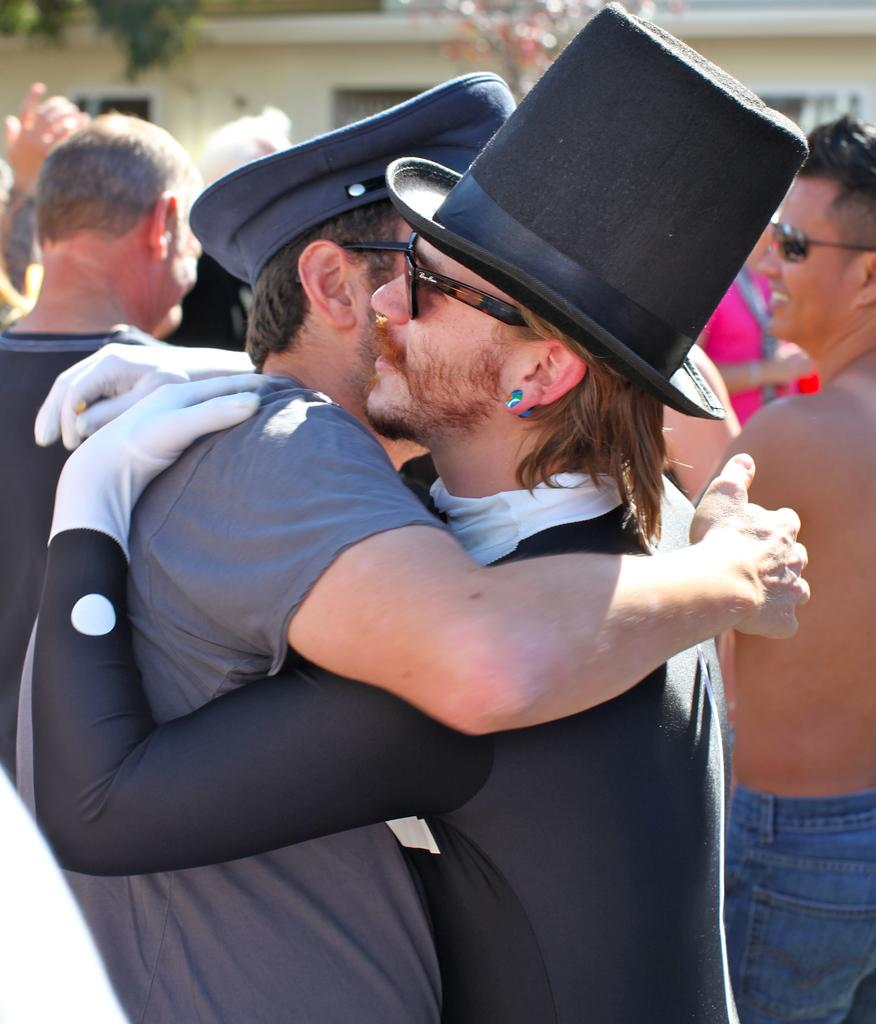Hat: (322, 9, 797, 433), (185, 66, 516, 292)
